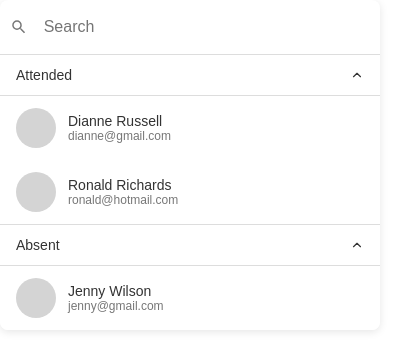
ContactList Component › displays empty state message when no results are found
# Type a non-matching name
Type "NonExistent" into the field with placeholder "Search". click: (203, 27)
box: [36,10,370,44]
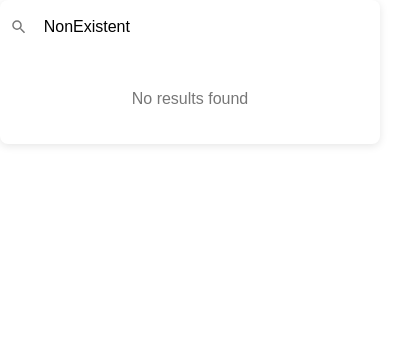
Now the text "No results found" is shown, box [132,90,248,107]
